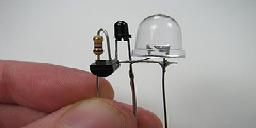LED: (135, 14, 187, 59)
